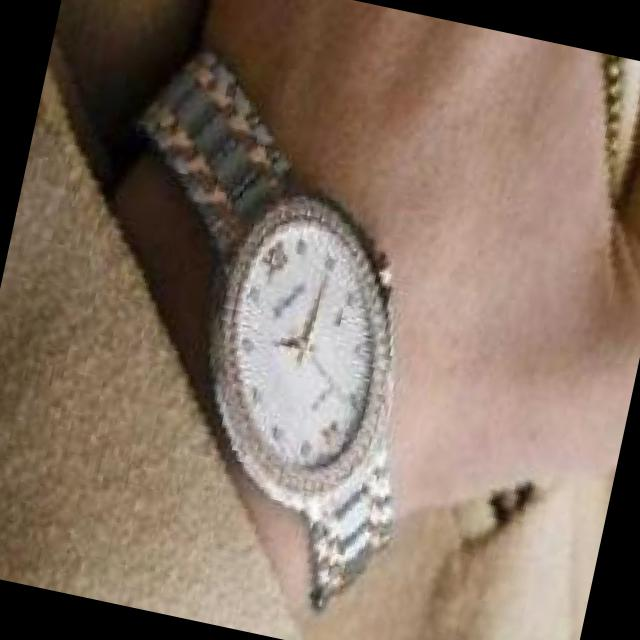saat: (31, 21, 556, 638)
